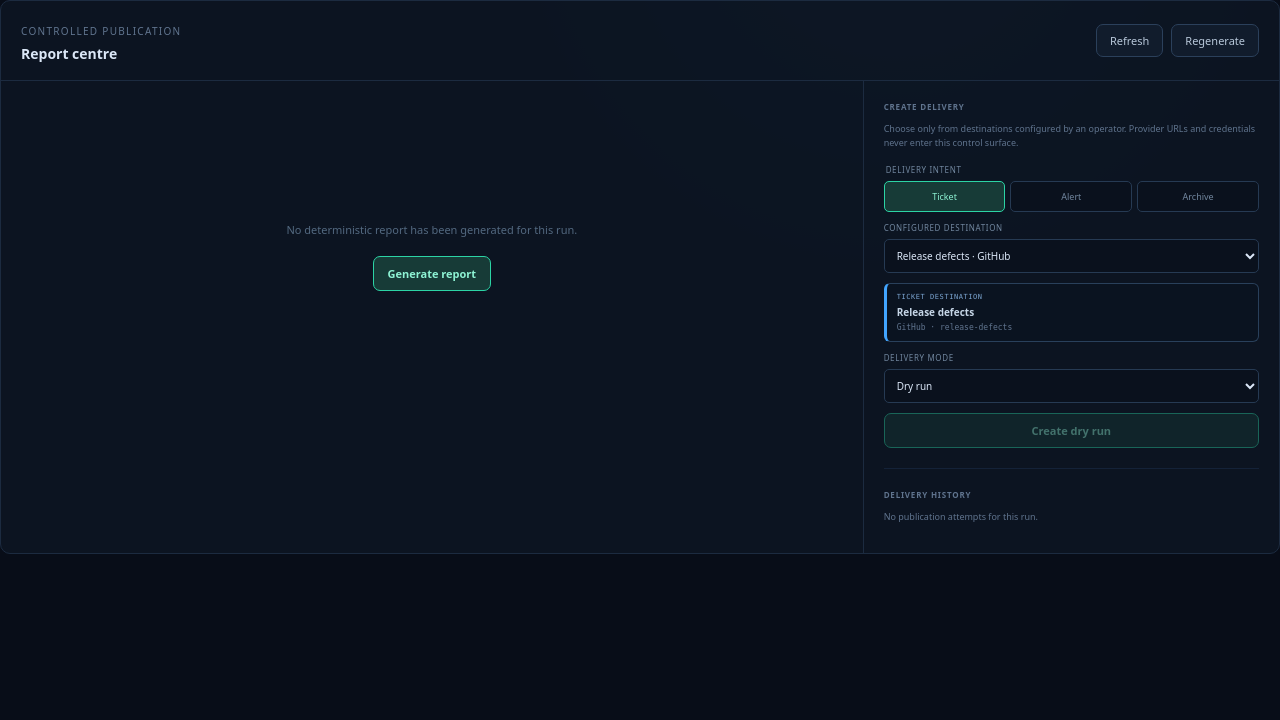
report centre › offers deterministic generation when no report exists and surfaces sanitized errors
The image size is (1280, 720).
Expected: the text "No deterministic report has been generated for this run." is shown, [286,222,577,237]
Click the button "Generate report".
click(432, 274)  # box [372,256,491,291]
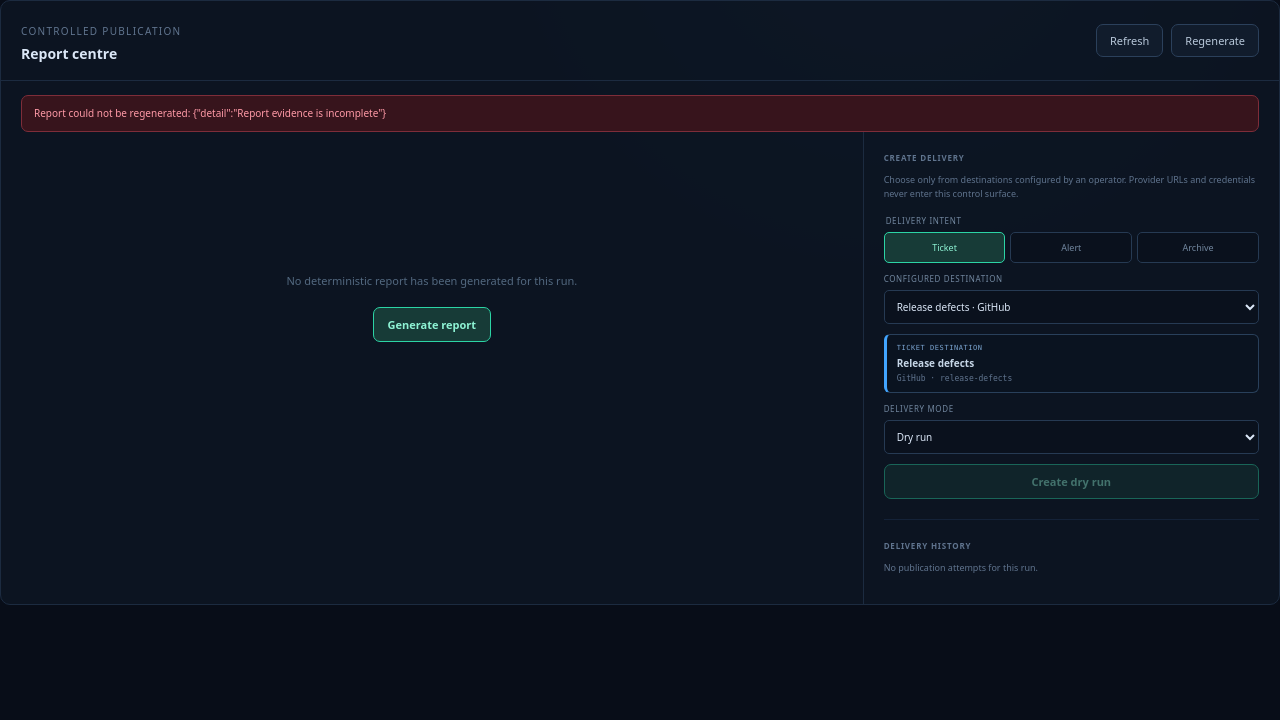
Result: the message shows "Report evidence is incomplete" at [34,106,386,120]
